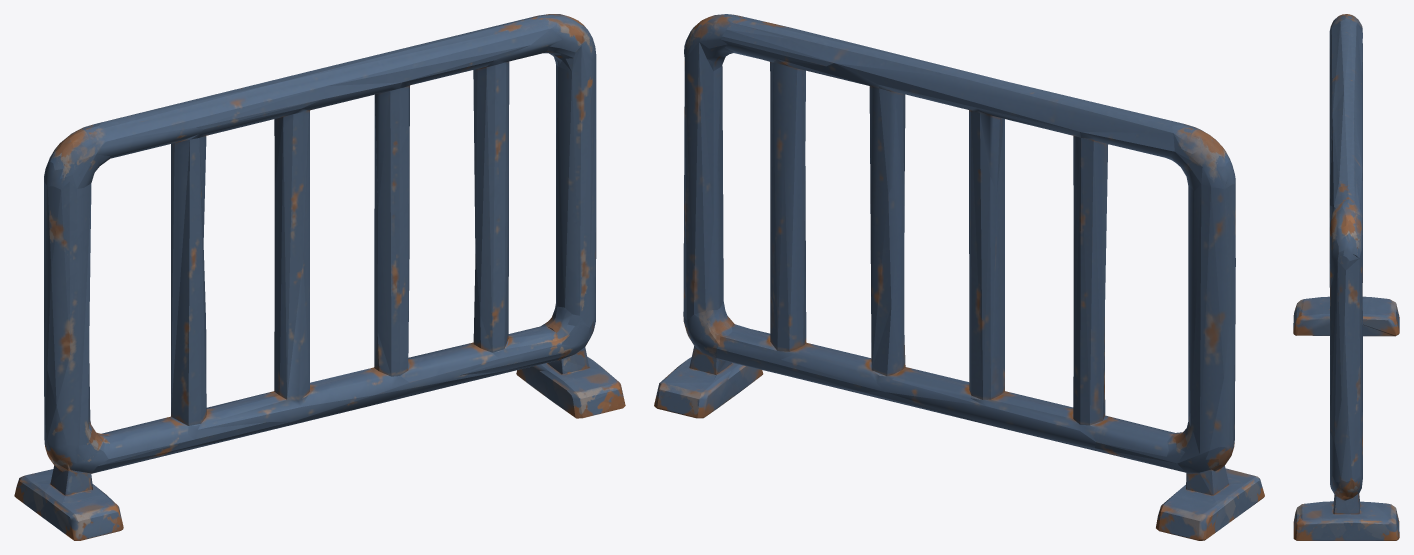
The model's file is crowd_barrier_1800tri.glb.
3 renders of one model, left to right at view 1: azimuth 30°, elevation 25°; view 2: azimuth 150°, elevation 25°; view 3: azimuth 270°, elevation 25°, orthographic. The views are drawn at different scales.
Parts seen in each view (by area): view 1: output_unwrapped; view 2: output_unwrapped; view 3: output_unwrapped.
Part boxes in pixels (x1=…): output_unwrapped: x1=14, y1=14, x2=625, y2=540; output_unwrapped: x1=654, y1=14, x2=1264, y2=540; output_unwrapped: x1=1293, y1=14, x2=1399, y2=540.
Bounding box in the file's own units: 1.9 × 1.25 × 0.378.
1 material, 1 textured.
